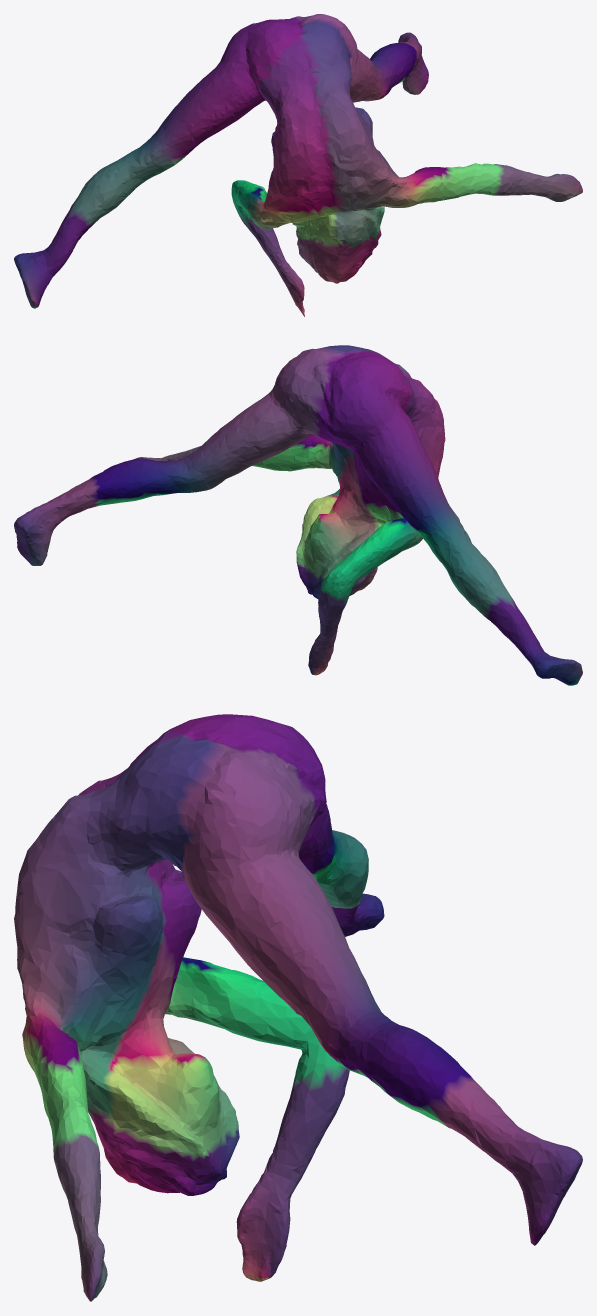
The model's file is woman-6.off.obj.
The picture shows the model from 3 angles, top to bottom: view 1: azimuth 30°, elevation 25°; view 2: azimuth 150°, elevation 25°; view 3: azimuth 270°, elevation 25°; orthographic projection. The views are drawn at different scales.
Bounding box in the file's own units: 1.6 × 0.939 × 0.9076.
